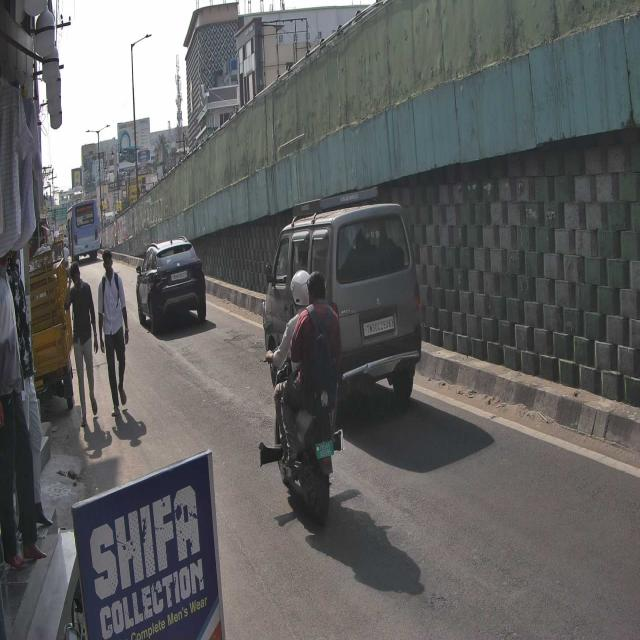double_rider: (262, 266, 348, 524)
